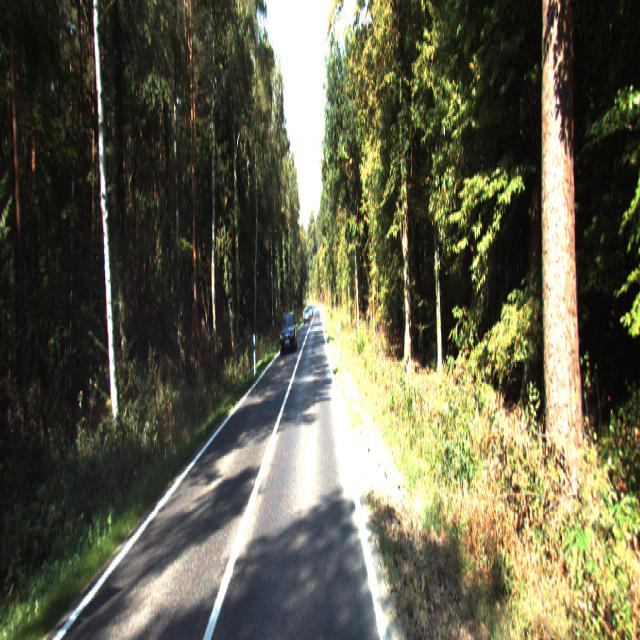Car: (280, 311, 297, 356)
